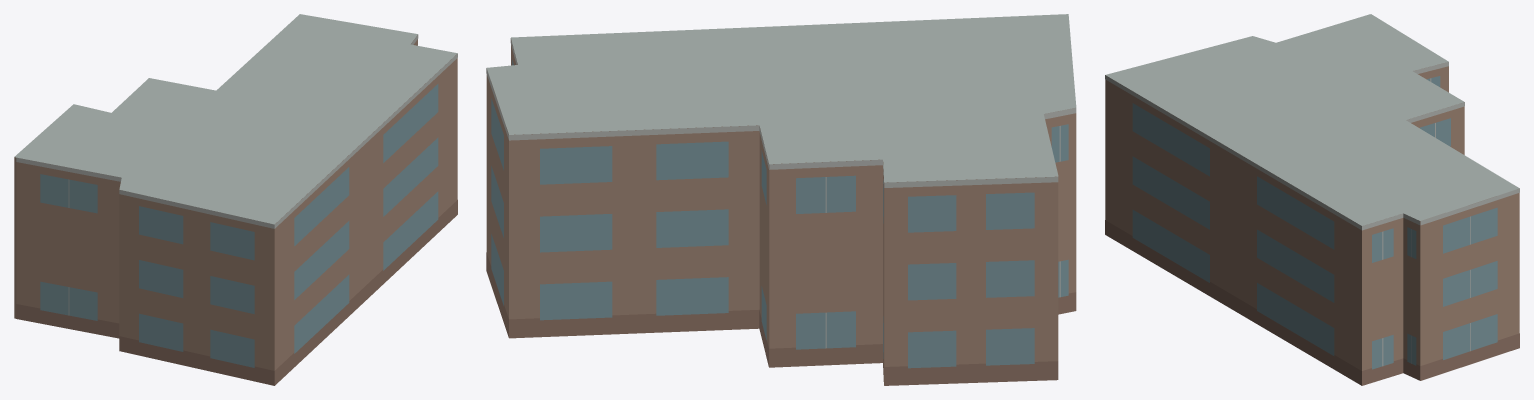
Rendered from survey-upis-32774340.glb.
The picture shows the model from 3 angles, left to right: view 1: azimuth 30°, elevation 25°; view 2: azimuth 150°, elevation 25°; view 3: azimuth 270°, elevation 25°; orthographic projection. The views are drawn at different scales.
Visible parts, largest first — view 1: survey-upis-32774340.tmp; view 2: survey-upis-32774340.tmp; view 3: survey-upis-32774340.tmp.
Part boxes in pixels (x1=…): survey-upis-32774340.tmp: x1=14, y1=14, x2=457, y2=385; survey-upis-32774340.tmp: x1=486, y1=14, x2=1076, y2=385; survey-upis-32774340.tmp: x1=1105, y1=14, x2=1519, y2=385.
Bounding box in the file's own units: 25.35 × 8.9 × 20.94.
